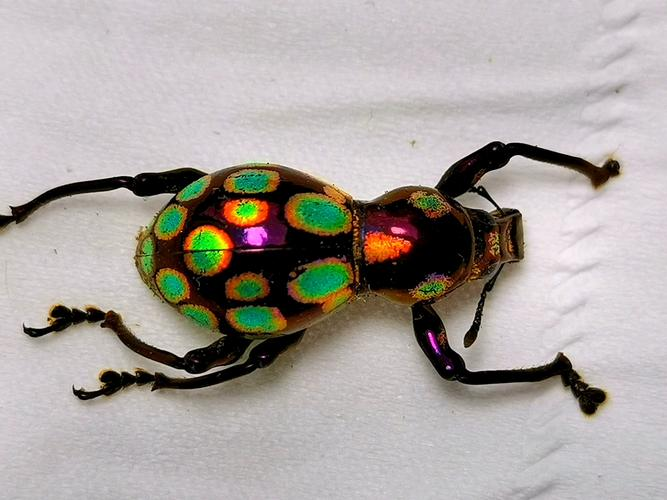Curculionidae: (2, 140, 620, 416)
